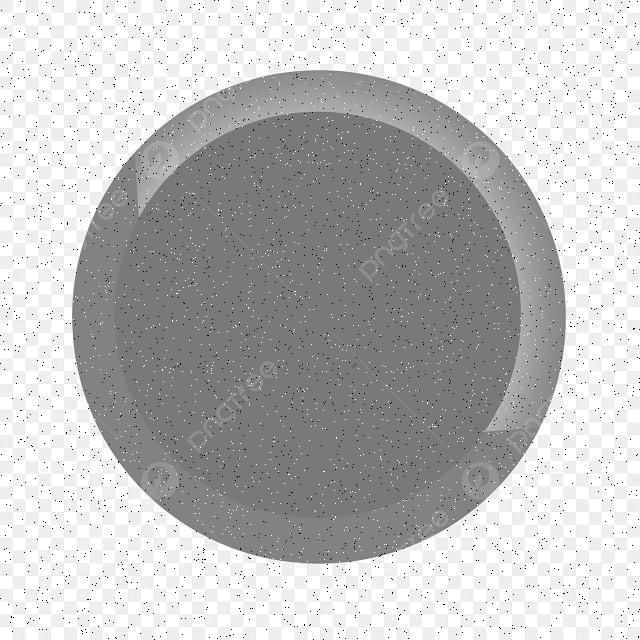Circle: (70, 69, 567, 567)
